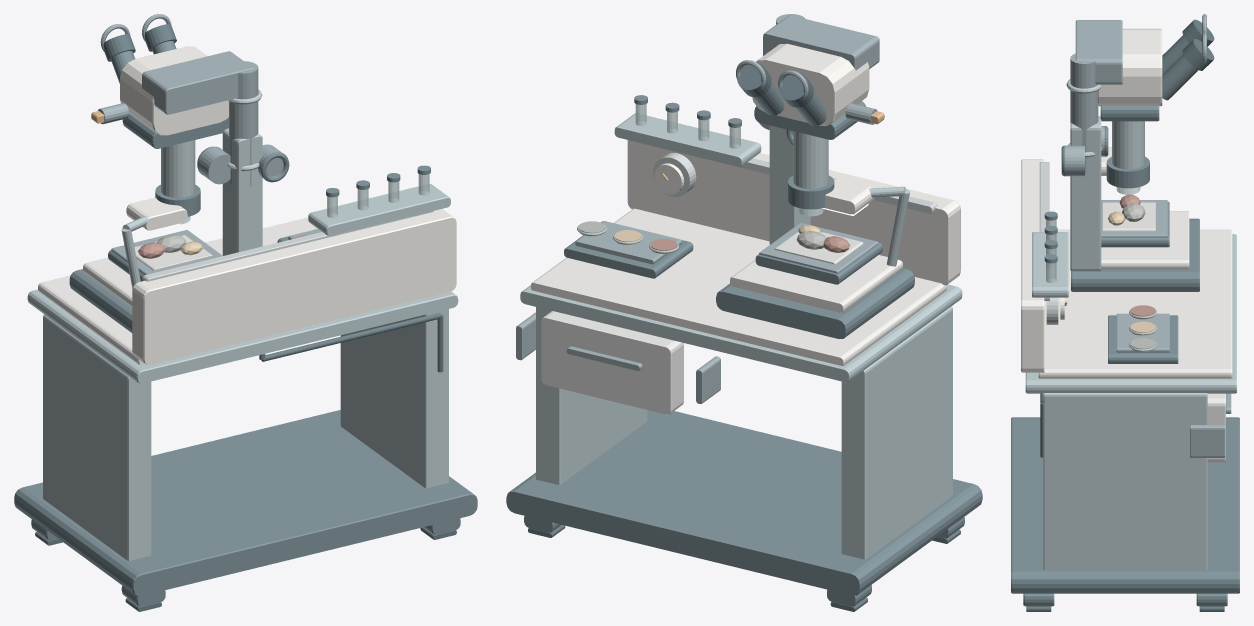
Rendered from microscope_station.glb.
3 renders of one model, left to right at view 1: azimuth 30°, elevation 25°; view 2: azimuth 150°, elevation 25°; view 3: azimuth 270°, elevation 25°, orthographic. The views are drawn at different scales.
Visible parts, largest first — view 1: Fixed__aluminium, Fixed__graphite, Fixed__ivory, Fixed__steel, Fixed__ceramic, Fixed__rubber, Fixed__silver, Focus_Knob__steel, Fixed__glass, Mineral_Sample_Tray__steel, Fixed__neutral; view 2: Fixed__graphite, Fixed__aluminium, Fixed__ceramic, Fixed__ivory, Sample_Drawer__shell, Fixed__steel, Fixed__rubber, Fixed__silver, Mineral_Sample_Tray__steel, Fixed__glass, Fixed__neutral, Sample_Drawer__steel; view 3: Fixed__aluminium, Fixed__graphite, Fixed__ceramic, Fixed__ivory, Fixed__steel, Fixed__rubber, Fixed__neutral, Fixed__silver, Mineral_Sample_Tray__steel, Focus_Knob__steel, Sample_Drawer__shell, Fixed__glass (+1 smaller).
Boxes of the visible parts, box(x1,y1,x2,y2) form: Fixed__aluminium: box(27, 89, 458, 560); Fixed__graphite: box(14, 41, 477, 606); Fixed__ivory: box(120, 46, 456, 364); Fixed__steel: box(100, 14, 321, 239); Fixed__ceramic: box(38, 217, 317, 364); Fixed__rubber: box(35, 24, 456, 611); Fixed__silver: box(142, 211, 433, 281); Focus_Knob__steel: box(198, 144, 283, 184); Fixed__glass: box(180, 174, 429, 224); Mineral_Sample_Tray__steel: box(111, 230, 222, 274); Fixed__neutral: box(134, 235, 213, 270); Fixed__graphite: box(506, 82, 982, 606); Fixed__aluminium: box(520, 113, 962, 559); Fixed__ceramic: box(531, 208, 947, 365); Fixed__ivory: box(627, 43, 960, 285); Sample_Drawer__shell: box(541, 311, 683, 414); Fixed__steel: box(516, 14, 879, 403); Fixed__rubber: box(528, 62, 960, 611); Fixed__silver: box(643, 143, 937, 213); Mineral_Sample_Tray__steel: box(759, 223, 878, 273); Fixed__glass: box(635, 104, 823, 216); Fixed__neutral: box(774, 231, 863, 264); Sample_Drawer__steel: box(566, 346, 642, 370); Fixed__aluminium: box(1025, 79, 1236, 569); Fixed__graphite: box(1011, 35, 1239, 606); Fixed__ceramic: box(1038, 211, 1232, 378); Fixed__ivory: box(1021, 28, 1162, 372); Fixed__steel: box(1070, 14, 1225, 457); Fixed__rubber: box(1026, 19, 1224, 611); Fixed__neutral: box(1102, 202, 1155, 231); Fixed__silver: box(1039, 162, 1058, 324); Mineral_Sample_Tray__steel: box(1101, 200, 1167, 237); Focus_Knob__steel: box(1065, 126, 1104, 176); Sample_Drawer__shell: box(1207, 393, 1225, 462); Fixed__glass: box(1046, 187, 1140, 282).
Size of the model in its own units: 1.3 by 1.81 by 0.78.
